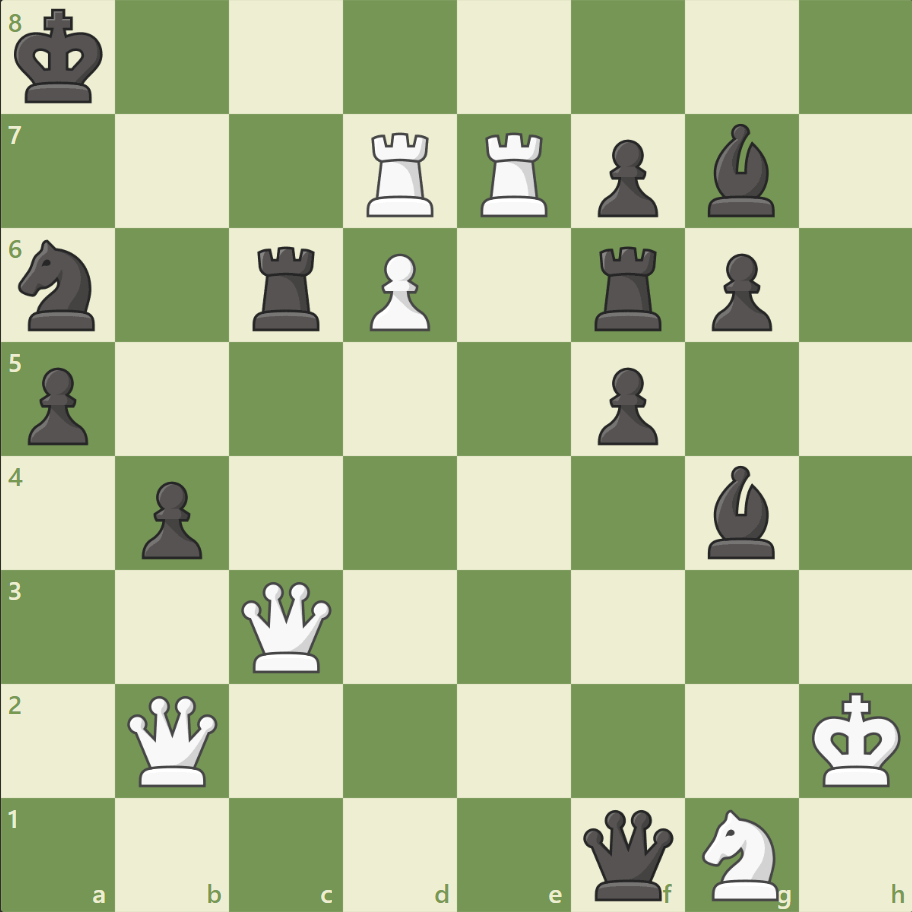K: (806, 685, 906, 793)
N: (692, 802, 789, 904)
P: (361, 246, 435, 337)
Q: (237, 576, 336, 676), (124, 690, 223, 789)
R: (473, 125, 556, 222), (360, 125, 442, 222)
b: (698, 460, 782, 563), (698, 120, 782, 222)
k: (11, 4, 111, 112)
n: (11, 234, 108, 337)
p: (701, 246, 776, 337), (20, 359, 95, 450), (133, 473, 208, 564), (588, 132, 662, 223), (588, 359, 662, 450)
q: (578, 804, 677, 903)
r: (246, 239, 329, 336), (587, 239, 670, 336)
